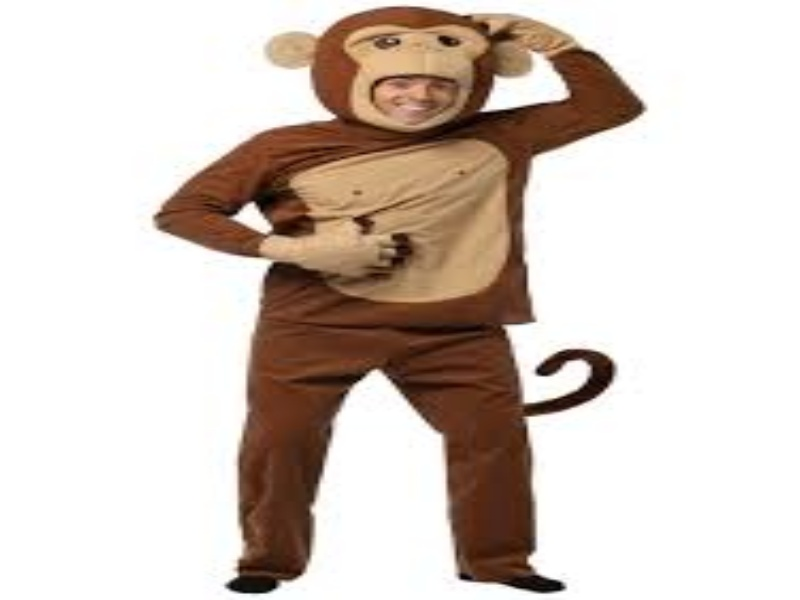monkey: (147, 7, 650, 591)
